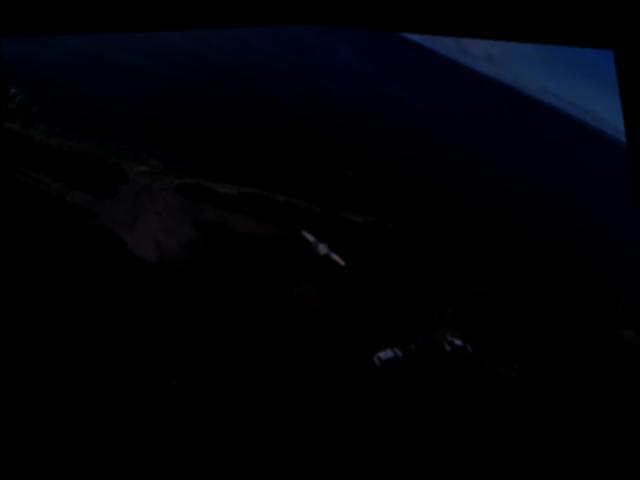uav: (293, 214, 345, 268)
